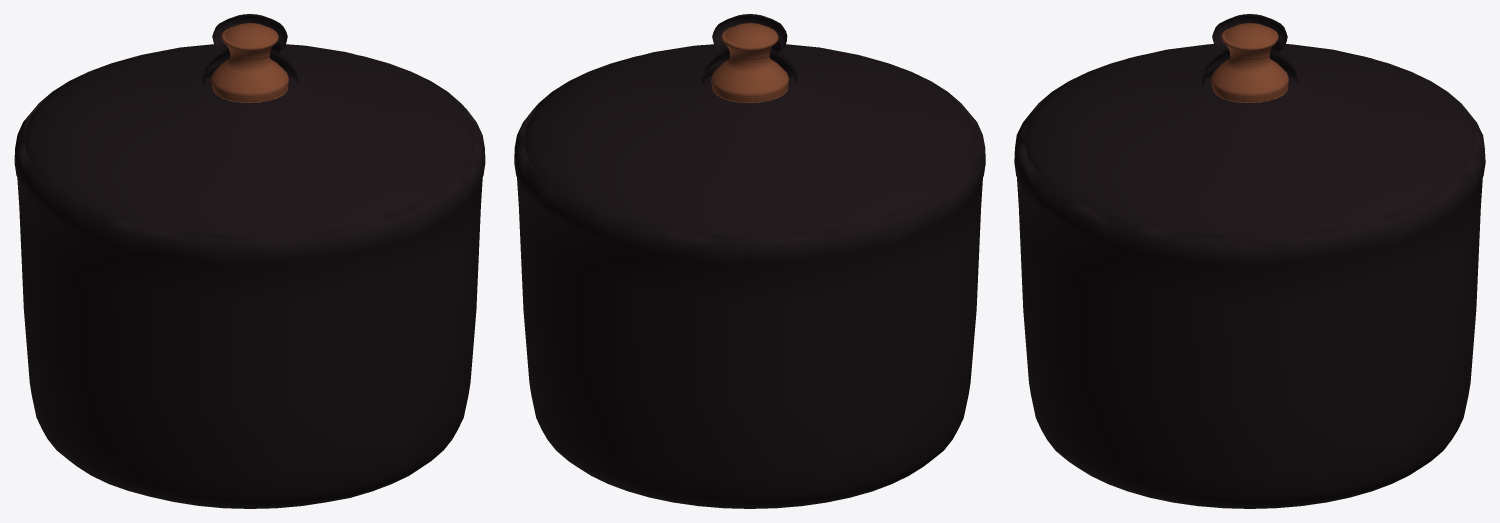
The model's file is SM_Int_Pot.fbx.
The picture shows the model from 3 angles, left to right: view 1: azimuth 30°, elevation 25°; view 2: azimuth 150°, elevation 25°; view 3: azimuth 270°, elevation 25°; orthographic projection.
Parts seen in each view (by area): view 1: SM_Int_Pot; view 2: SM_Int_Pot; view 3: SM_Int_Pot.
Boxes of the visible parts, x1=… form: SM_Int_Pot: x1=14, y1=14, x2=485, y2=508; SM_Int_Pot: x1=514, y1=14, x2=985, y2=508; SM_Int_Pot: x1=1014, y1=14, x2=1485, y2=508.
Bounding box in the file's own units: 0.3137 × 0.3029 × 0.3135.
